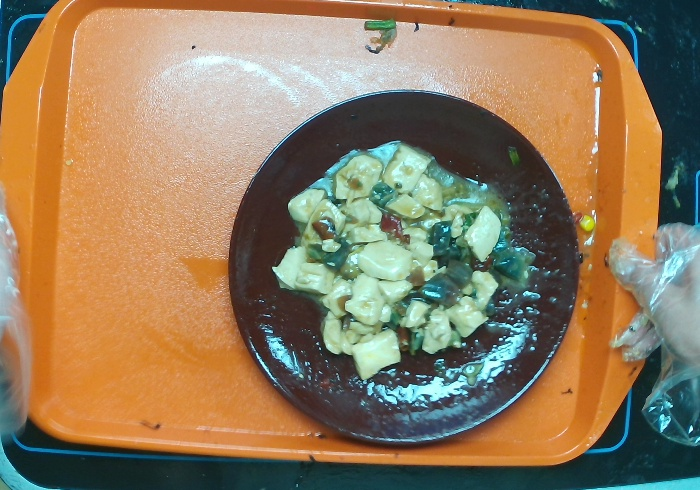HZYJPL-Ka_Fei_Yuan_Pan: (215, 82, 587, 457)
